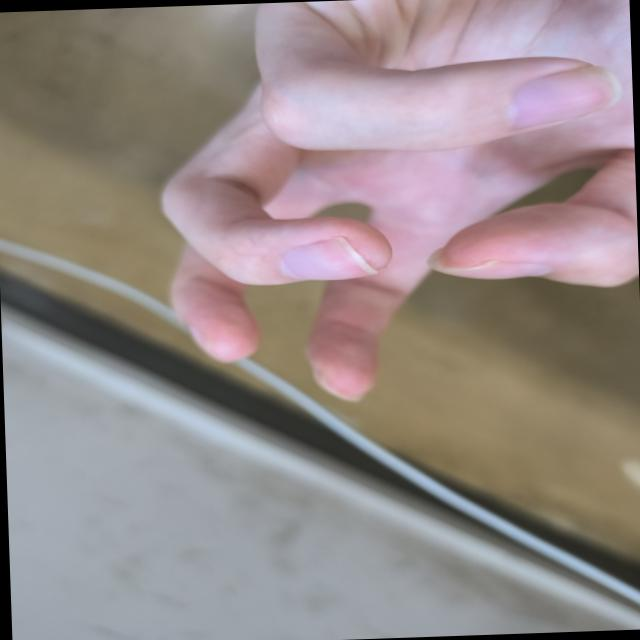Nail: (506, 64, 620, 127), (275, 237, 375, 278), (434, 259, 547, 278), (187, 326, 218, 359)
